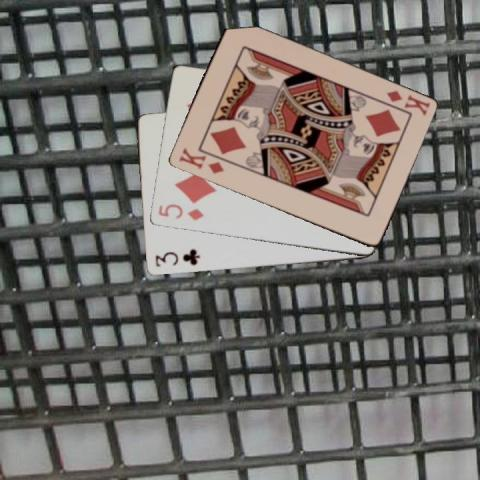3c: (152, 246, 201, 269)
5d: (155, 201, 205, 222)
Kd: (176, 145, 226, 176), (383, 88, 431, 118)
